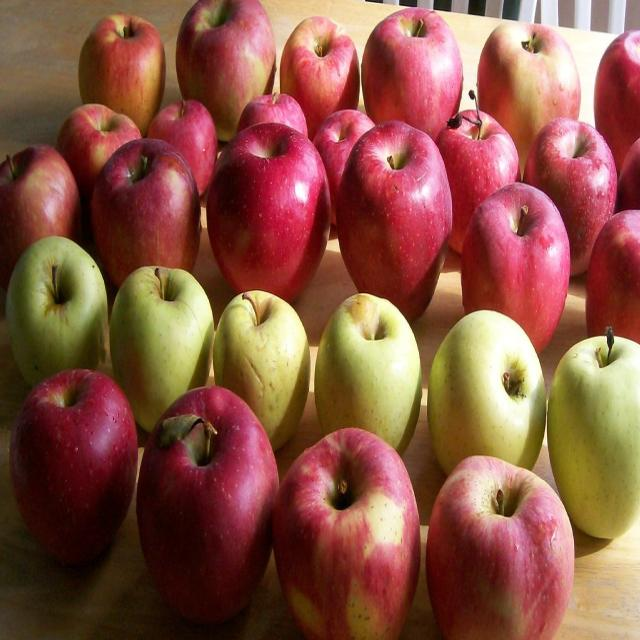Healty Apple: (0, 0, 639, 639), (426, 453, 574, 639), (13, 367, 131, 573), (336, 114, 458, 309)
